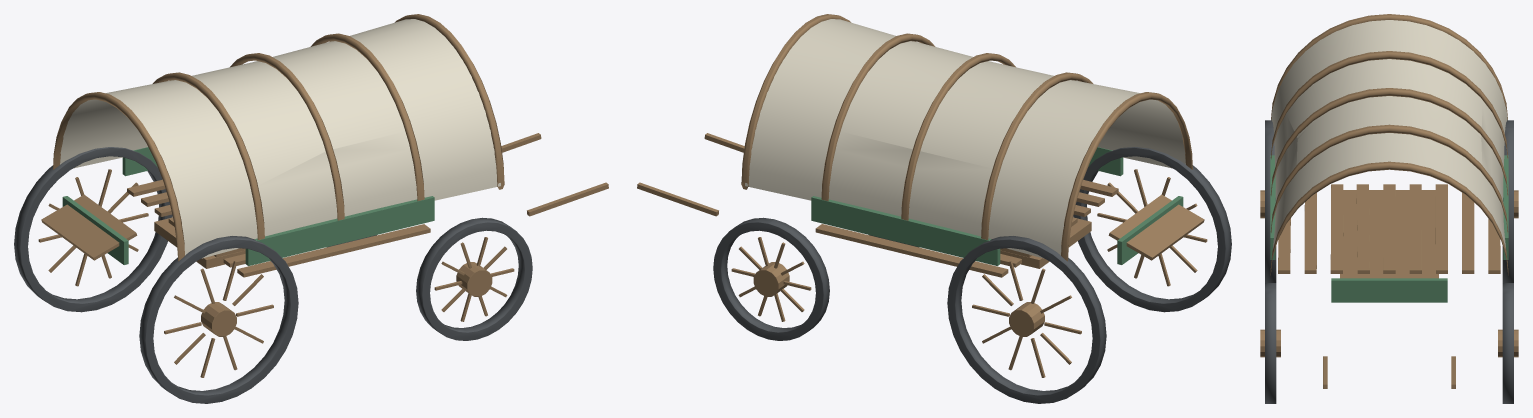
The model's file is wagon.glb.
3 views of the same model, side by side, from view 1: azimuth 30°, elevation 25°; view 2: azimuth 150°, elevation 25°; view 3: azimuth 270°, elevation 25° (orthographic). The views are drawn at different scales.
Parts seen in each view (by area): view 1: wagon; view 2: wagon; view 3: wagon.
Part boxes in pixels (x1,y1,x2,y2): wagon: (14, 14, 608, 403); wagon: (637, 14, 1231, 403); wagon: (1260, 14, 1518, 403).
Bounding box in the file's own units: 4.76 × 2.35 × 2.22.
